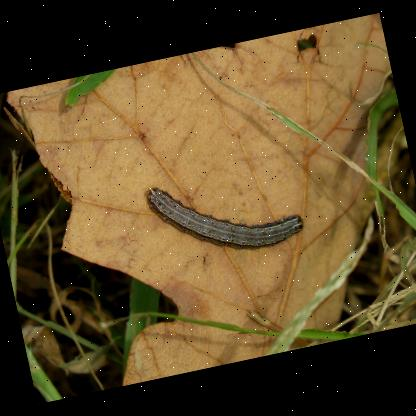Fall Armyworm Larvae: (138, 154, 312, 275)
